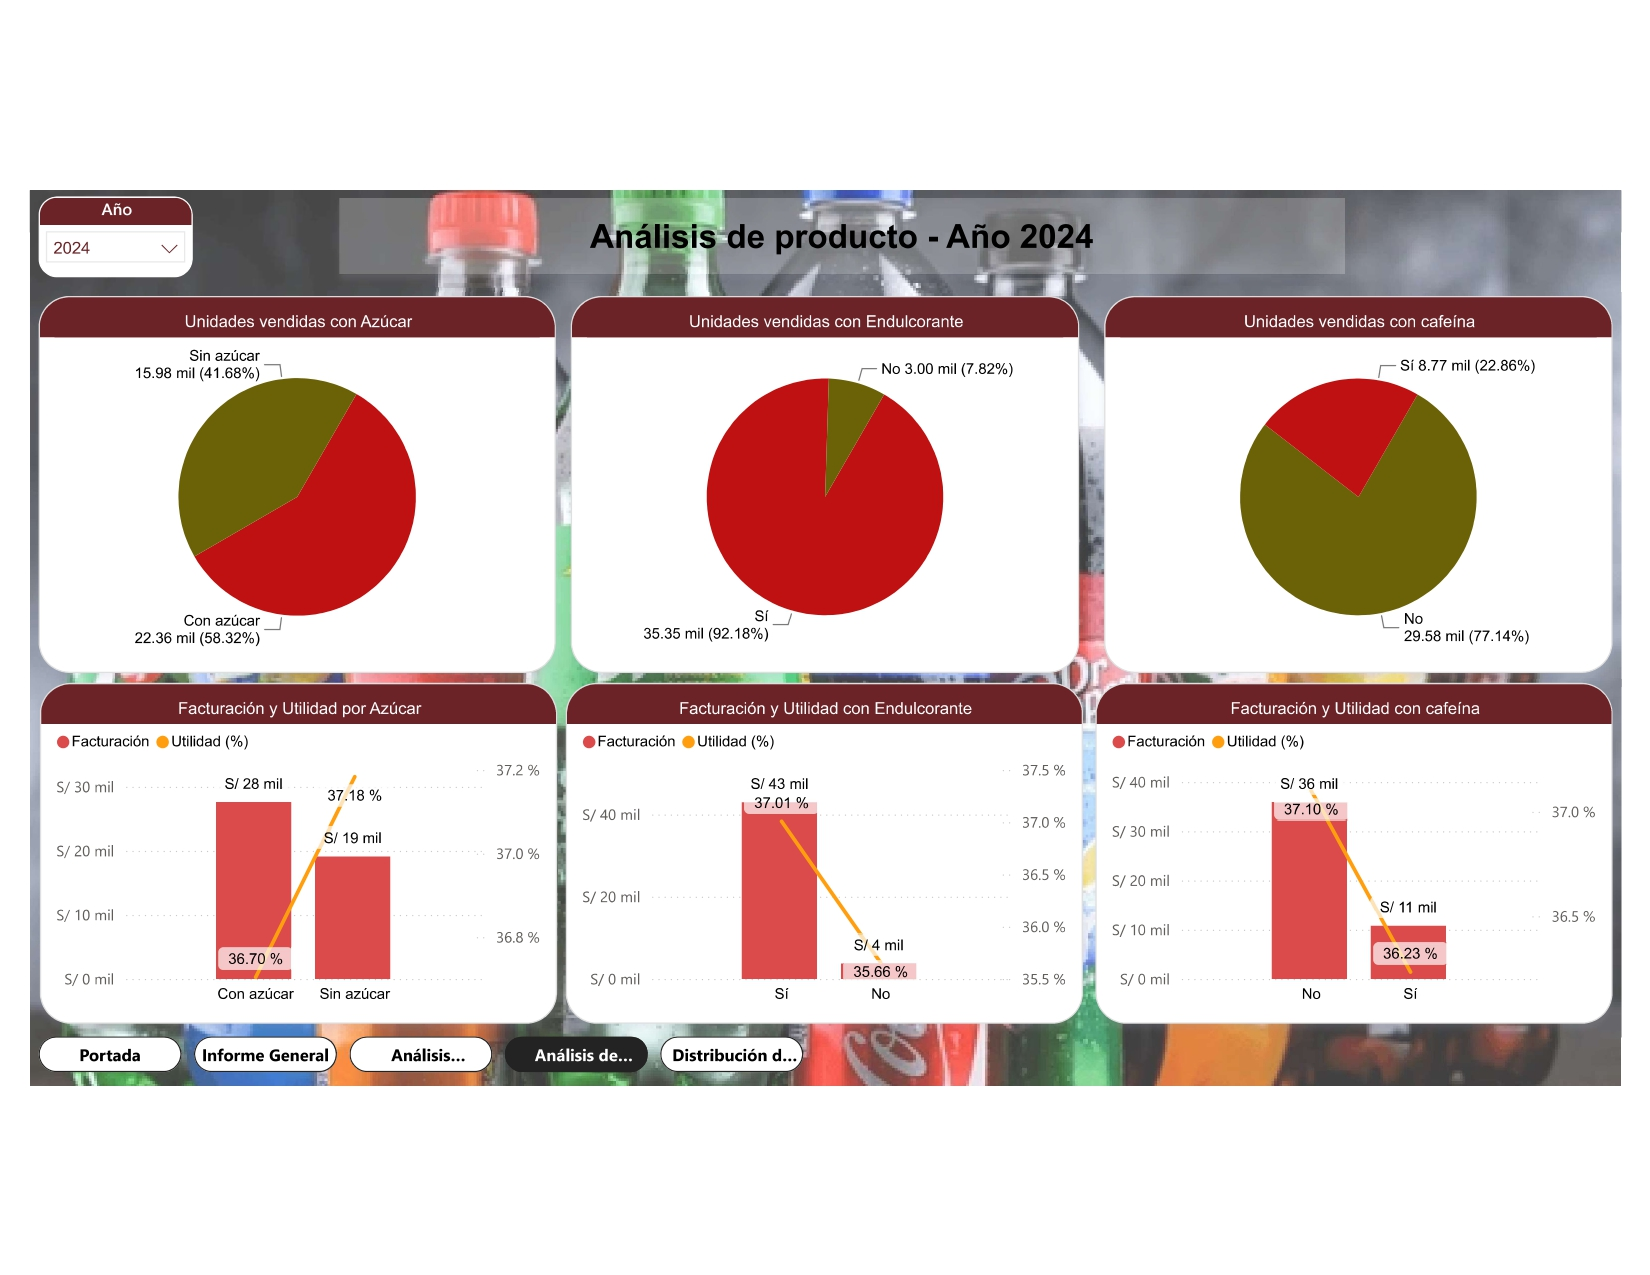

This screenshot's page, from the dashboard's own definition file:
{"tool":"powerbi","page":{"name":"Análisis de producto","canvas":[1280,720],"ordinal":3},"visuals":[{"type":"pageNavigator","box":[7,680,615,29],"z":0},{"type":"card","fields":{"Values":["Tabla medidas.Año producto"]},"box":[249.1,7.3,808.2,60],"z":1000},{"type":"slicer","title":"Año","fields":{"Values":["CalendarioDAX.Año"]},"box":[7.3,4.5,123.6,65.5],"z":2000},{"type":"pieChart","title":"Unidades vendidas con cafeína","fields":{"Category":["Cafeína.Caffeinated"],"Y":["Tabla medidas.Unidades vendidas"]},"box":[863.9,84.5,409.5,303],"z":3000},{"type":"pieChart","title":"Unidades vendidas con Azúcar","fields":{"Category":["Sugar.Sugar Level"],"Y":["Tabla medidas.Unidades vendidas"]},"box":[6.6,84.5,416.1,303],"z":4000},{"type":"pieChart","title":"Unidades vendidas con Endulcorante","fields":{"Y":["Tabla medidas.Unidades vendidas"],"Category":["Sweeteners.With Sweeteners"]},"box":[434.7,84.5,409.5,303],"z":5000},{"type":"lineClusteredColumnComboChart","title":"Facturación y Utilidad por Azúcar","fields":{"Category":["Sugar.Sugar Level"],"Y":["Tabla medidas.Facturación"],"Y2":["Tabla medidas.Utilidad (%)"]},"box":[7.7,396.3,416.1,273.3],"z":6000},{"type":"lineClusteredColumnComboChart","title":"Facturación y Utilidad con Endulcorante","fields":{"Category":["Sweeteners.With Sweeteners"],"Y":["Tabla medidas.Facturación"],"Y2":["Tabla medidas.Utilidad (%)"]},"box":[431.4,396.3,416.1,273.3],"z":7000},{"type":"lineStackedColumnComboChart","title":"Facturación y Utilidad con cafeína","fields":{"Category":["Cafeína.Caffeinated"],"Y":["Tabla medidas.Facturación"],"Y2":["Tabla medidas.Utilidad (%)"]},"box":[857.4,396.3,416.1,273.3],"z":8000}]}

Visuals, with their boxes on the page's 1280x720 design canvas (x1, y1, x2, y2). These are canvas units, not pixel positions in the 1650x1275 screenshot, which may show the page scaled, cropped or inside an application window:
pageNavigator: 7/680/622/709
card - Tabla medidas.Año producto: 249/7/1057/67
"Año" slicer: 7/4/131/70
"Unidades vendidas con cafeína" pieChart: 864/84/1273/388
"Unidades vendidas con Azúcar" pieChart: 7/84/423/388
"Unidades vendidas con Endulcorante" pieChart: 435/84/844/388
"Facturación y Utilidad por Azúcar" lineClusteredColumnComboChart: 8/396/424/670
"Facturación y Utilidad con Endulcorante" lineClusteredColumnComboChart: 431/396/848/670
"Facturación y Utilidad con cafeína" lineStackedColumnComboChart: 857/396/1274/670
